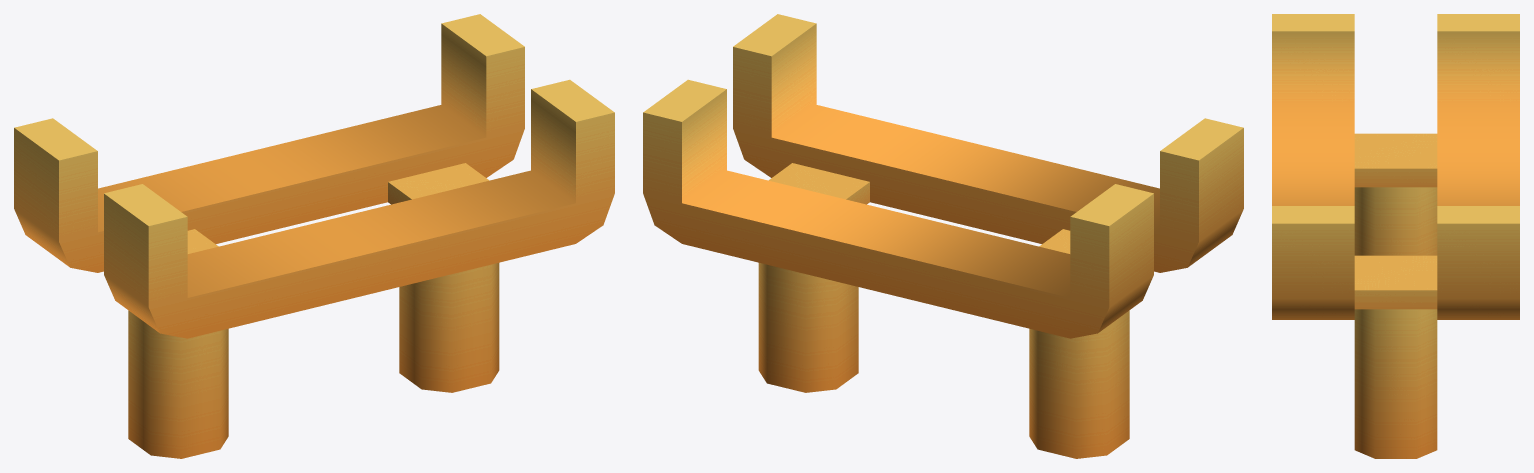
Rendered from support_color_two_top_double.glb.
3 renders of one model, left to right at view 1: azimuth 30°, elevation 25°; view 2: azimuth 150°, elevation 25°; view 3: azimuth 270°, elevation 25°, orthographic. The views are drawn at different scales.
Parts seen in each view (by area): view 1: support-color-two-top-double; view 2: support-color-two-top-double; view 3: support-color-two-top-double.
Part boxes in pixels (<box>): support-color-two-top-double: <box>14,14,614,458</box>; support-color-two-top-double: <box>643,14,1243,458</box>; support-color-two-top-double: <box>1272,14,1519,458</box>.
Bounding box in the file's own units: 1.2 × 0.7 × 0.6.
Materials: 1 (1 with a texture image).
